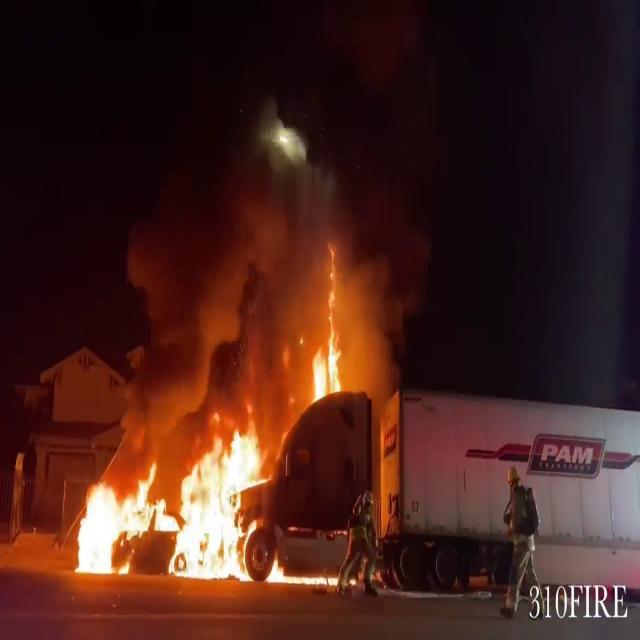Fire: (67, 408, 285, 582), (301, 283, 353, 418)
Smoke: (102, 125, 438, 408)
